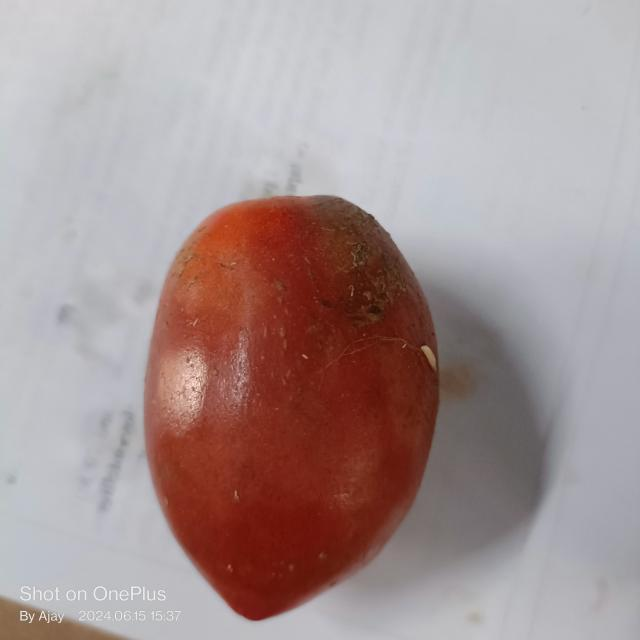Botrytis: (364, 300, 386, 320)
